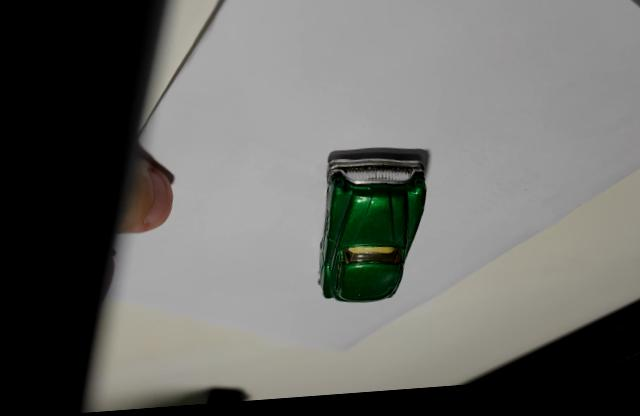06_MASERATI: (311, 159, 424, 307)
